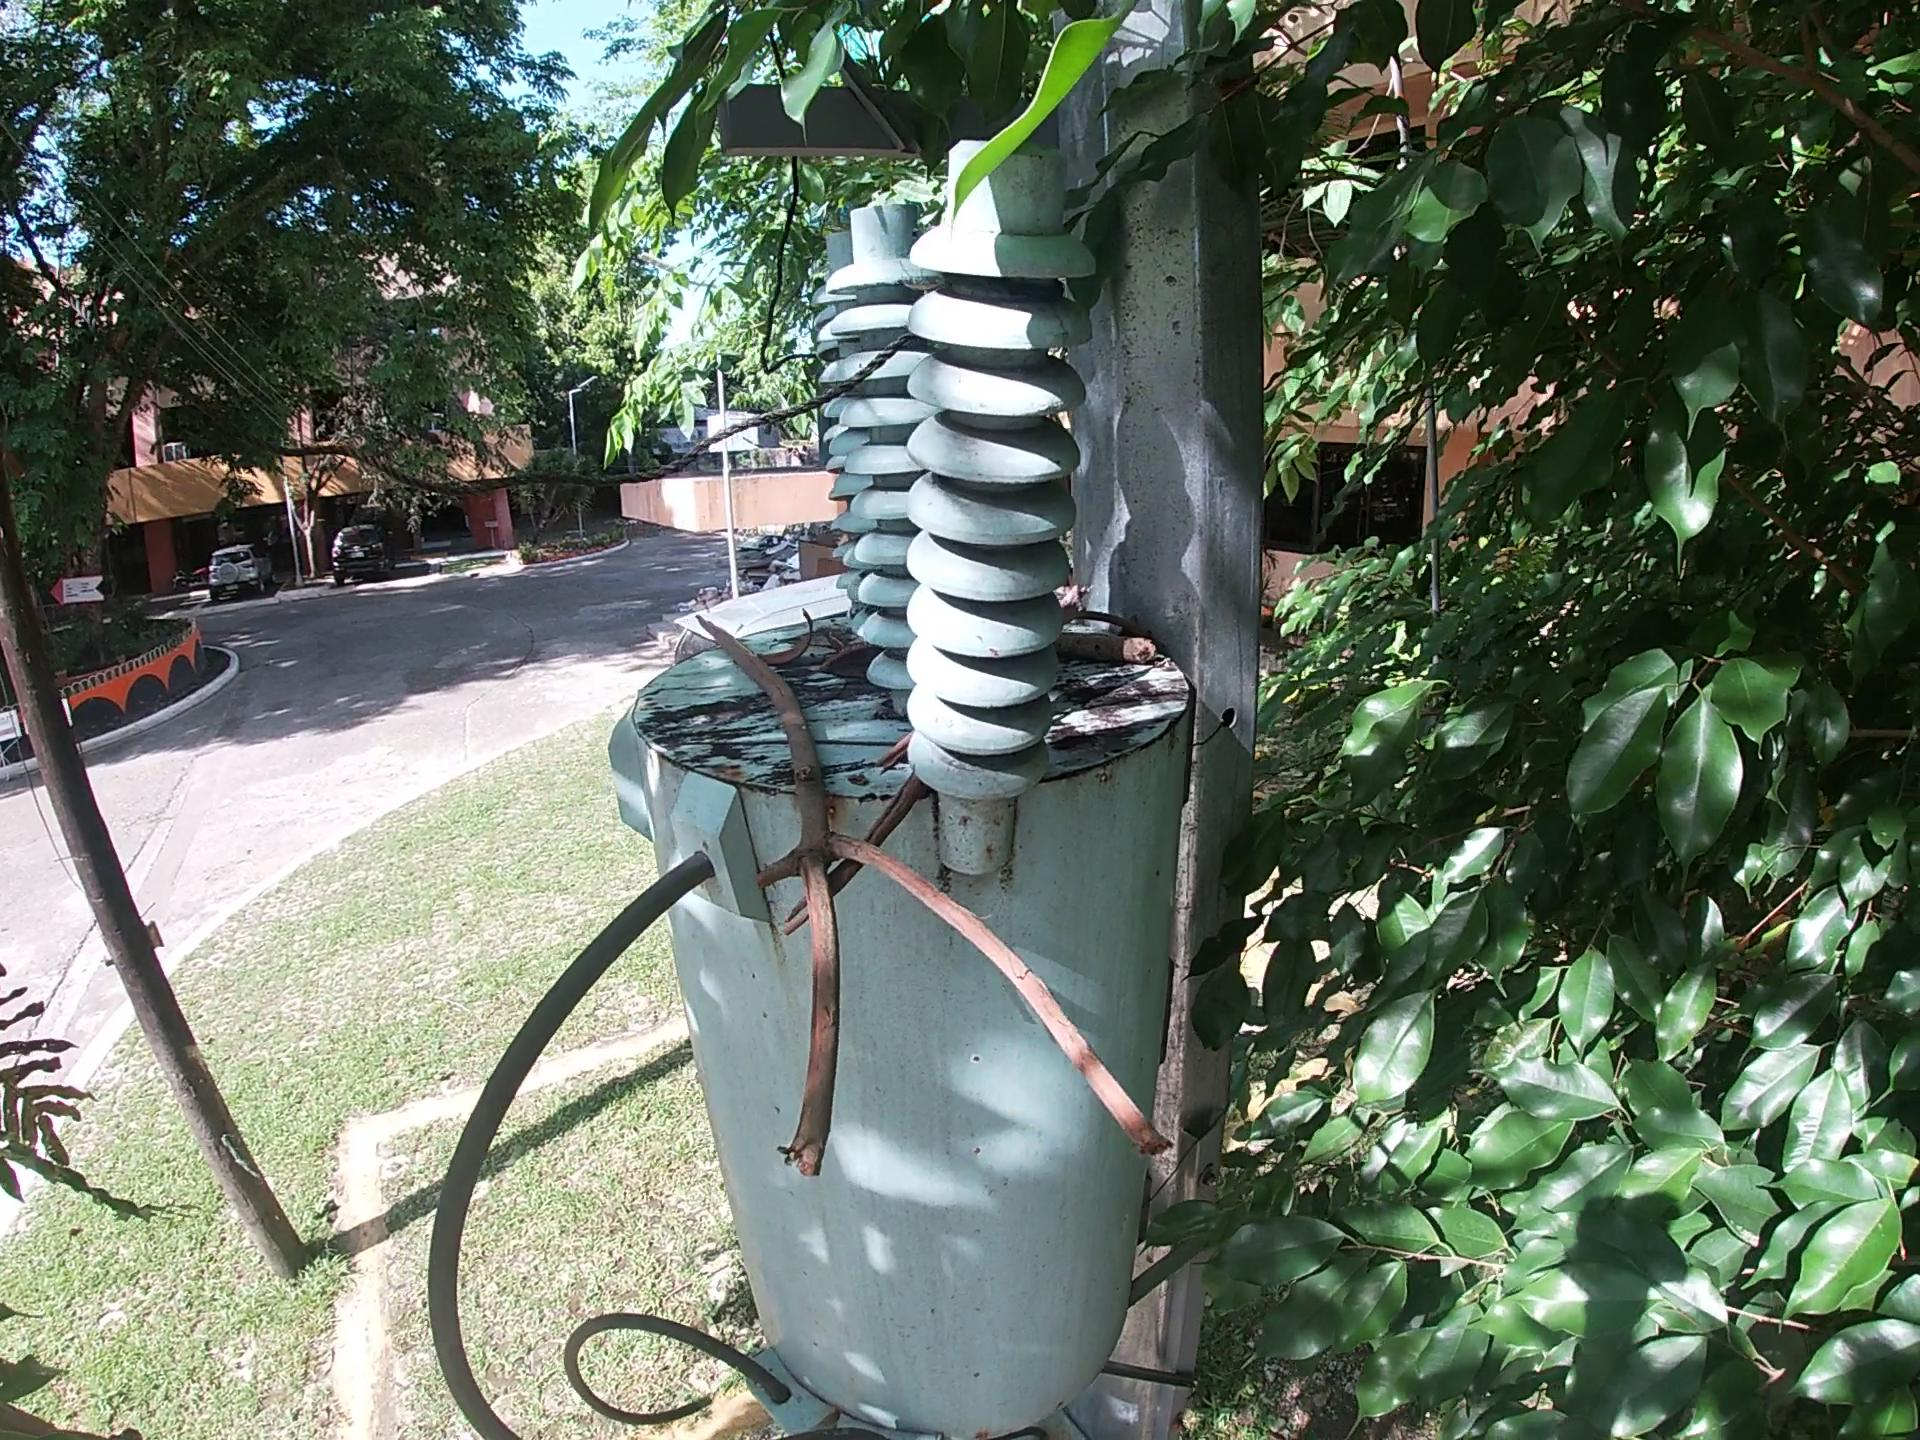mahogany fruit: (810, 655, 895, 703), (760, 611, 816, 661)
tree branch: (655, 611, 1197, 1221), (1039, 637, 1163, 672), (1039, 604, 1150, 629)
